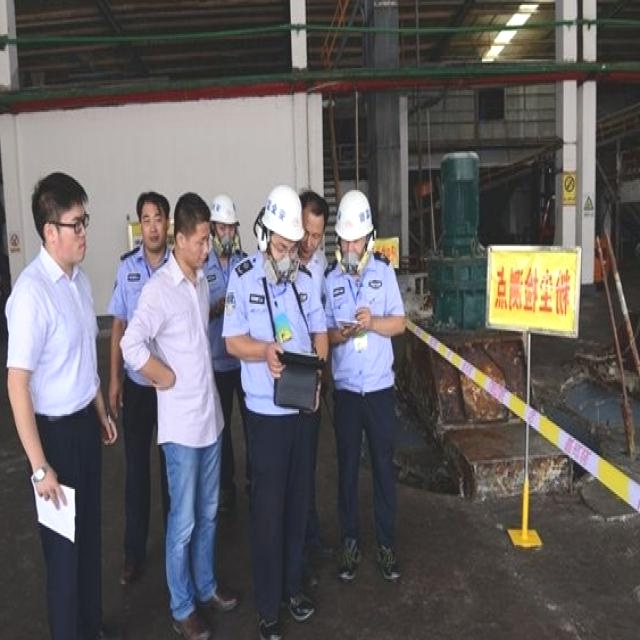Con_Casco: (264, 185, 303, 273), (333, 190, 371, 273)
Sin_Casco_Mascarrilla: (171, 193, 212, 271), (135, 191, 169, 256)
